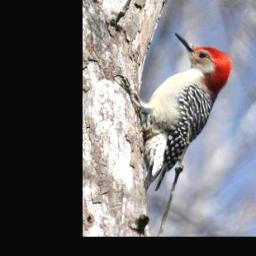Woodpecker: (107, 28, 237, 198)
